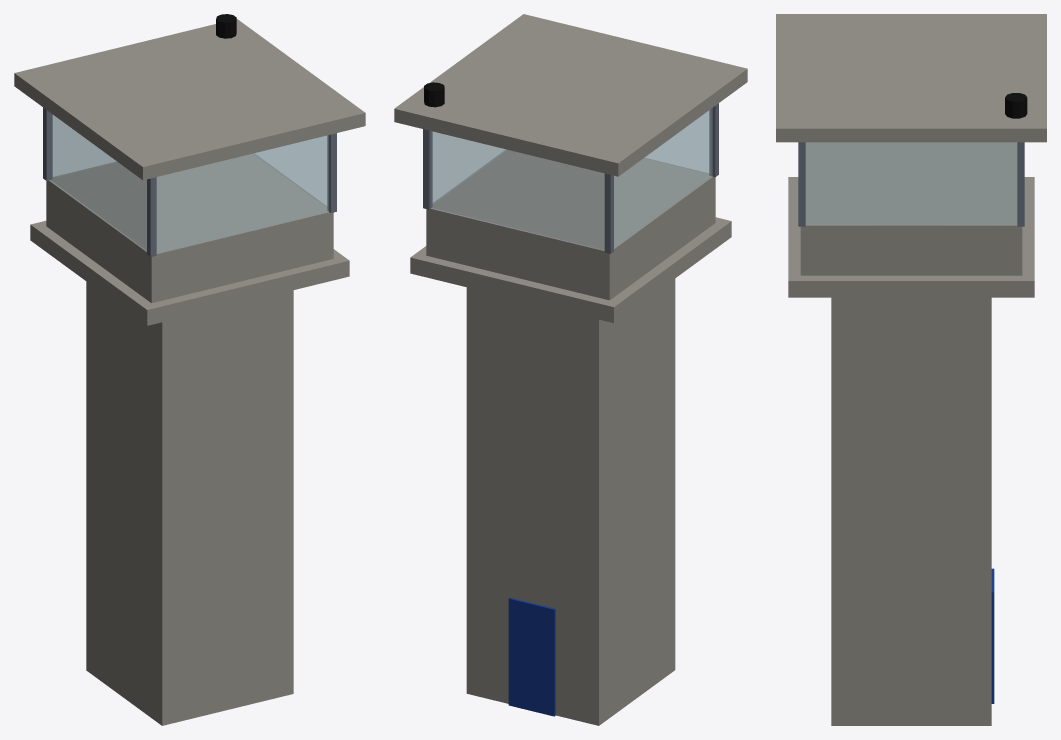
The model's file is justice.prison.watch_tower.glb.
3 renders of one model, left to right at view 1: azimuth 30°, elevation 25°; view 2: azimuth 150°, elevation 25°; view 3: azimuth 270°, elevation 25°, orthographic. The views are drawn at different scales.
Parts seen in each view (by area): view 1: main__concrete, main__glass, main__steel_painted; view 2: main__concrete, main__glass, main__plastic_blue, main__steel_painted; view 3: main__concrete, main__glass, main__steel_painted, main__plastic_black, main__plastic_blue.
Boxes of the visible parts, <box> form: main__concrete: <box>14,19,365,725</box>; main__glass: <box>49,112,328,253</box>; main__steel_painted: <box>43,107,336,256</box>; main__concrete: <box>394,14,747,725</box>; main__glass: <box>431,108,712,250</box>; main__plastic_blue: <box>508,597,555,716</box>; main__steel_painted: <box>423,103,718,253</box>; main__concrete: <box>776,14,1046,725</box>; main__glass: <box>806,142,1016,224</box>; main__steel_painted: <box>798,142,1024,226</box>; main__plastic_black: <box>1005,93,1027,118</box>; main__plastic_blue: <box>991,568,994,703</box>.
Bounding box in the file's own units: 4.4 × 11.45 × 4.4.
